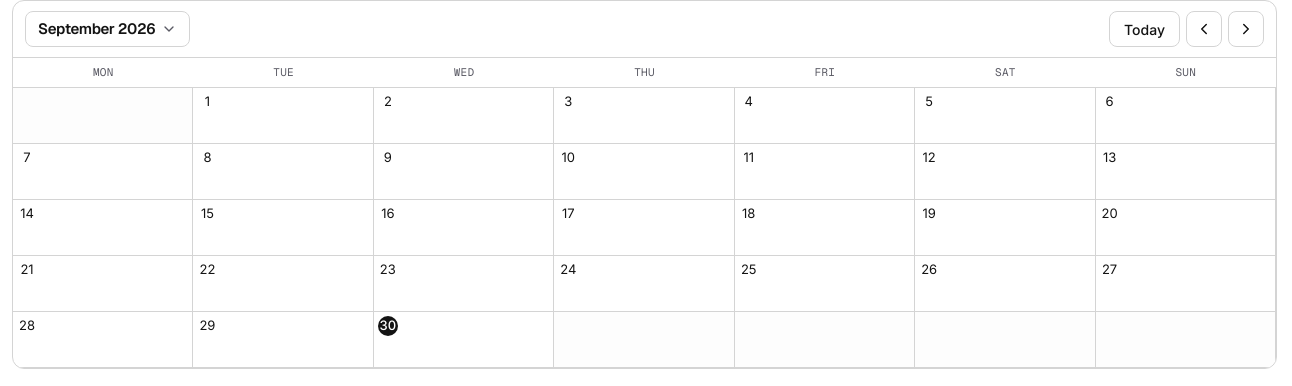
Test: MonthGrid header navigation (item 8) › the chevrons page by a whole set of years on the year grid, and by year on the month grid
Click the button "September 2026" at coordinates (108, 29), box [25,11,190,47]
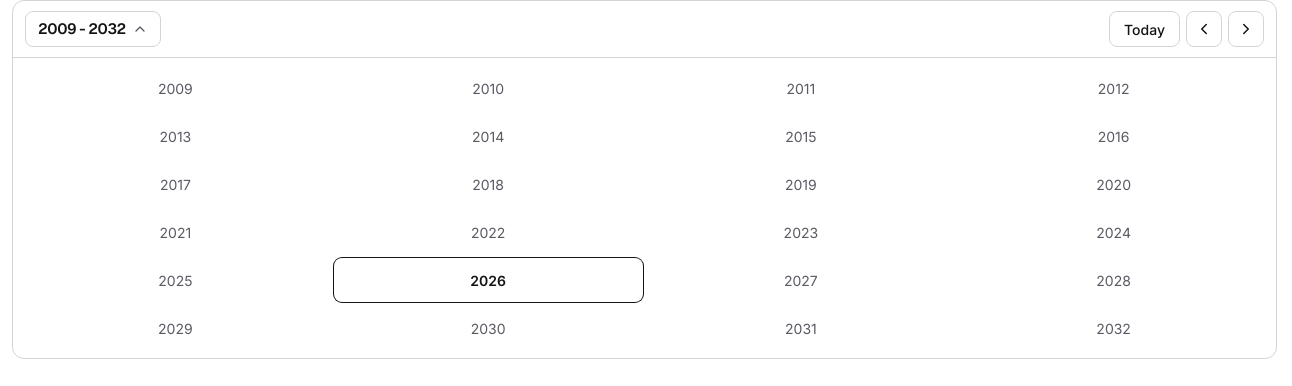
Result: the button "2009 - 2032" is shown at [25,11,161,47]
Click the button named "Earlier years" at coordinates (1204, 29), box [1186,11,1222,47]
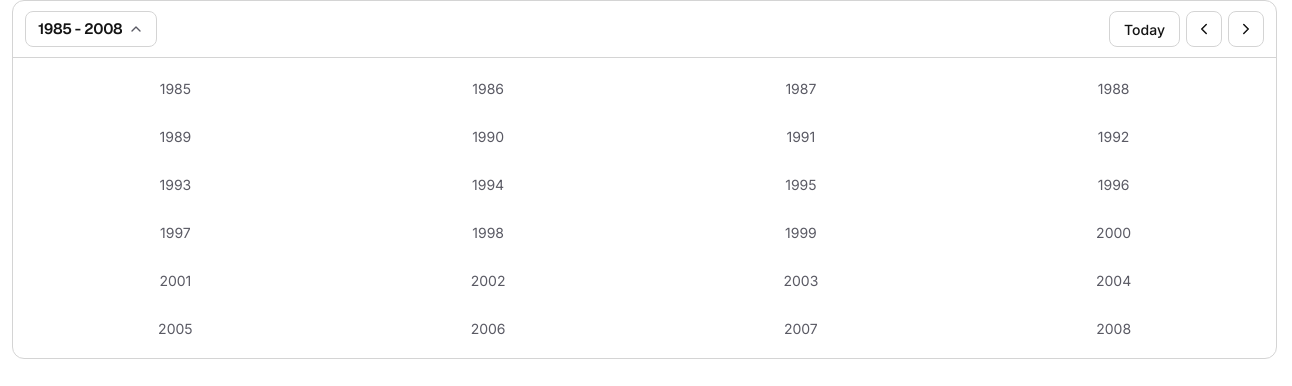
Result: the button "1985 - 2008" is shown at [25,11,157,47]
Result: the button "1990" is shown
Click the button "1990" at coordinates (488, 136), box [334,114,643,158]
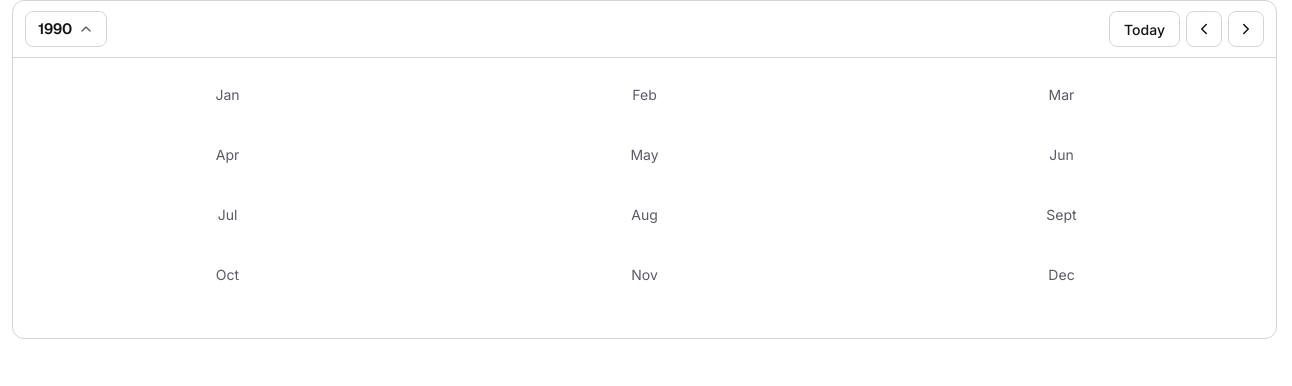
Click the button named "Next year" at coordinates (1246, 29), box [1228,11,1264,47]
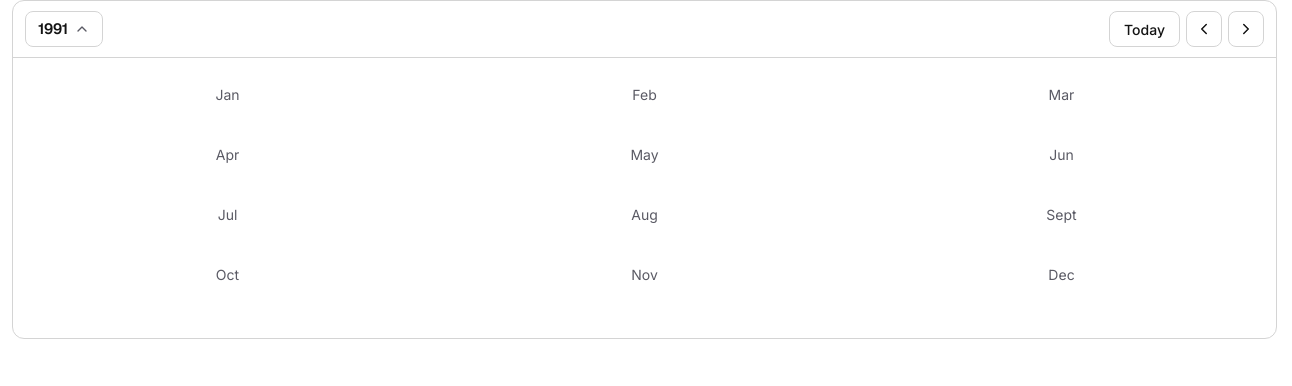
Result: the button "1991" is shown at [25,11,103,47]
